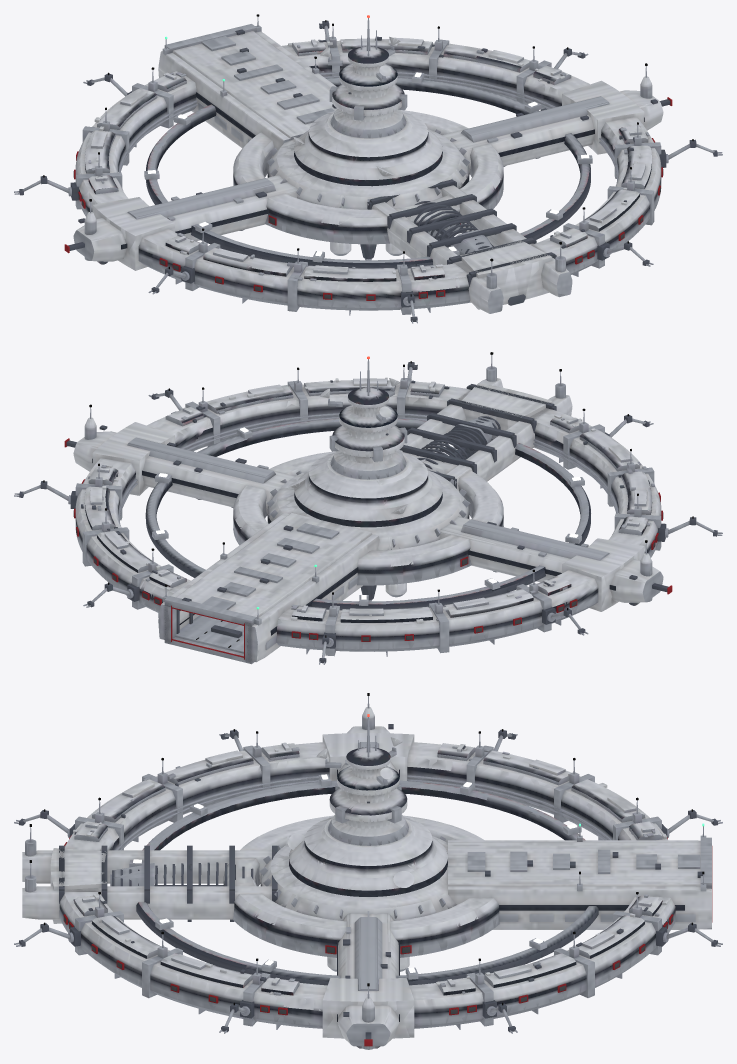
File: spacedock.glb
3 renders of one model, top to bottom at view 1: azimuth 30°, elevation 25°; view 2: azimuth 150°, elevation 25°; view 3: azimuth 270°, elevation 25°, orthographic. The views are drawn at different scales.
Parts seen in each view (by area): view 1: Cross, Ring, Hub, LiteRing, LiteHub, Arms, Tower, LiteCross, LiteTower, LiteArms; view 2: Cross, Ring, Hub, LiteRing, LiteHub, Arms, Tower, LiteCross, LiteTower, LiteArms; view 3: Ring, Cross, Hub, LiteRing, LiteHub, Arms, Tower, LiteCross, LiteTower, LiteArms.
Boxes of the visible parts, x1,y1,x2,y2 form: Cross: [73, 24, 663, 313]; Ring: [73, 36, 663, 315]; Hub: [233, 110, 503, 260]; LiteRing: [75, 38, 661, 310]; LiteHub: [233, 111, 503, 260]; Arms: [14, 14, 722, 323]; Tower: [320, 15, 407, 138]; LiteCross: [77, 31, 663, 313]; LiteTower: [323, 20, 406, 138]; LiteArms: [24, 26, 714, 316]; Cross: [73, 378, 663, 664]; Ring: [73, 377, 663, 656]; Hub: [233, 451, 503, 601]; LiteRing: [75, 380, 661, 655]; LiteHub: [233, 453, 503, 600]; Arms: [14, 352, 722, 664]; Tower: [320, 356, 407, 479]; LiteCross: [73, 379, 659, 661]; LiteTower: [322, 362, 405, 479]; LiteArms: [23, 366, 713, 656]; Ring: [59, 742, 675, 1029]; Cross: [22, 724, 712, 1048]; Hub: [223, 815, 499, 971]; LiteRing: [59, 743, 672, 1028]; LiteHub: [223, 817, 498, 971]; Arms: [14, 693, 722, 1049]; Tower: [316, 714, 408, 845]; LiteCross: [22, 726, 711, 1048]; LiteTower: [319, 718, 408, 845]; LiteArms: [24, 704, 712, 1049].
Size of the model in its own units: 1.05 by 0.4256 by 0.9991.
Materials: 4 (1 with a texture image).
